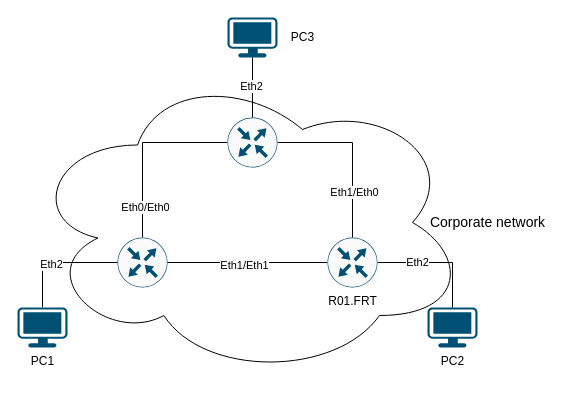
Some shapes in this 574 by 395 pixel diagram are drawn without their labels. Each missing label, with the box of its shape:
R01.BRL: (226, 116, 278, 168)
R01.MSK: (116, 236, 168, 288)
